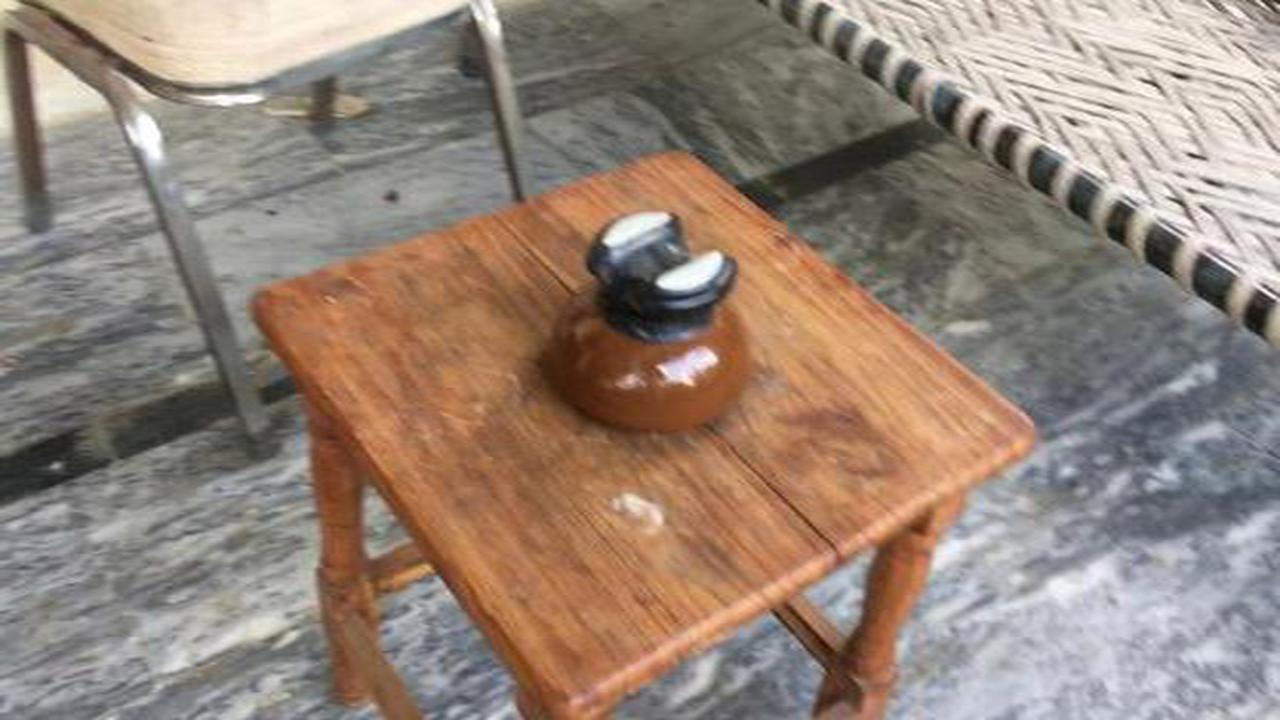insulator_pin: (530, 194, 773, 456)
